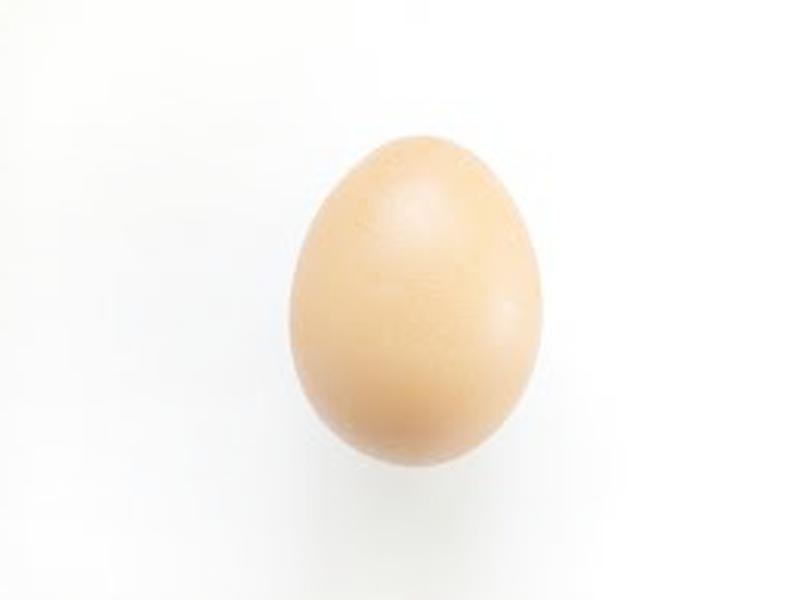Eggs: (286, 130, 540, 470)
